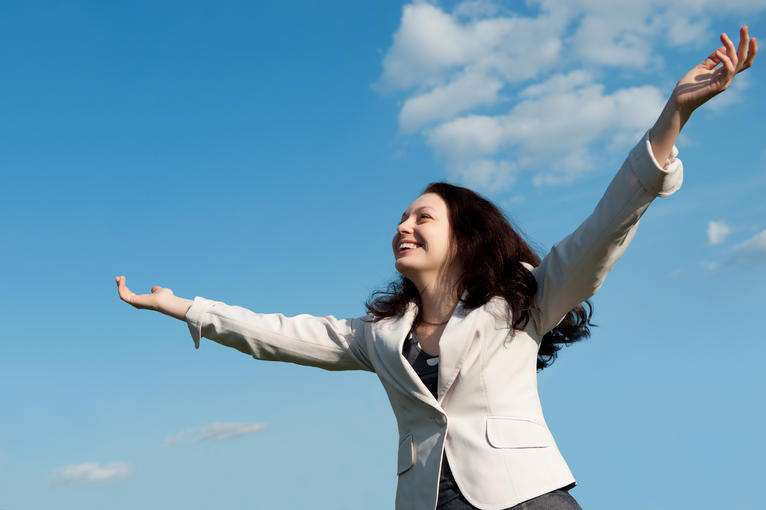no-phone: (668, 20, 760, 104), (111, 269, 177, 314)
